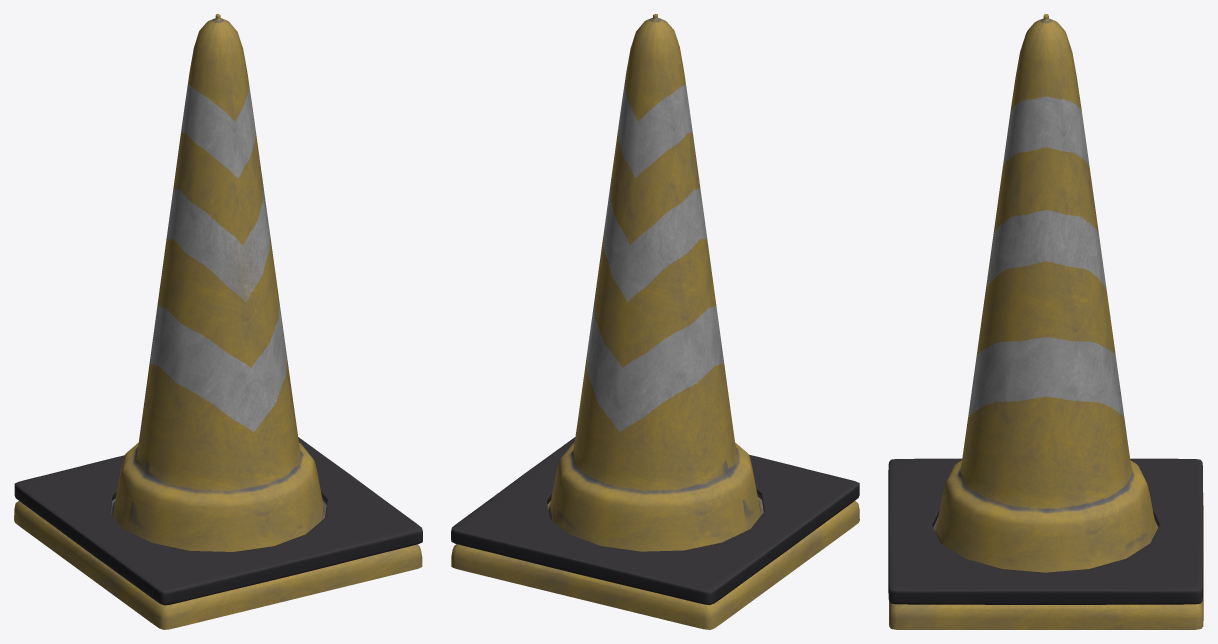
Rendered from ColorCone_Scotch_Dirty_Yellow.fbx.
3 views of the same model, side by side, from view 1: azimuth 30°, elevation 25°; view 2: azimuth 150°, elevation 25°; view 3: azimuth 270°, elevation 25° (orthographic). The views are drawn at different scales.
Parts seen in each view (by area): view 1: ColorCone_Scotch_Dirty_Yellow; view 2: ColorCone_Scotch_Dirty_Yellow; view 3: ColorCone_Scotch_Dirty_Yellow.
Part boxes in pixels (x1,y1,x2,y2): ColorCone_Scotch_Dirty_Yellow: (14,14,422,629); ColorCone_Scotch_Dirty_Yellow: (451,14,859,629); ColorCone_Scotch_Dirty_Yellow: (888,14,1203,629).
Size of the model in its own units: 38.04 by 38.06 by 73.14.
1 material, 1 textured.
